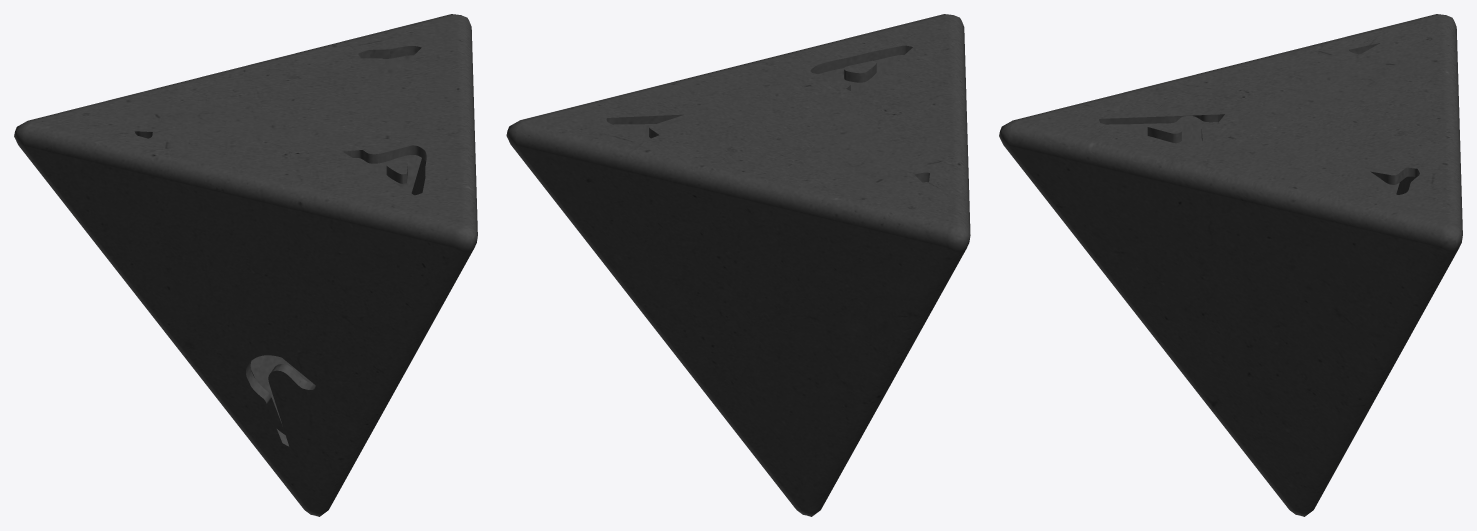
File: d4 outer.fbx
The picture shows the model from 3 angles, left to right: view 1: azimuth 30°, elevation 25°; view 2: azimuth 150°, elevation 25°; view 3: azimuth 270°, elevation 25°; orthographic projection.
Parts seen in each view (by area): view 1: d4 outer; view 2: d4 outer; view 3: d4 outer.
Part boxes in pixels (bbox=[...]): d4 outer: bbox=[14, 14, 477, 516]; d4 outer: bbox=[506, 14, 970, 516]; d4 outer: bbox=[999, 14, 1462, 516].
Bounding box in the file's own units: 102 × 84.97 × 90.34.
